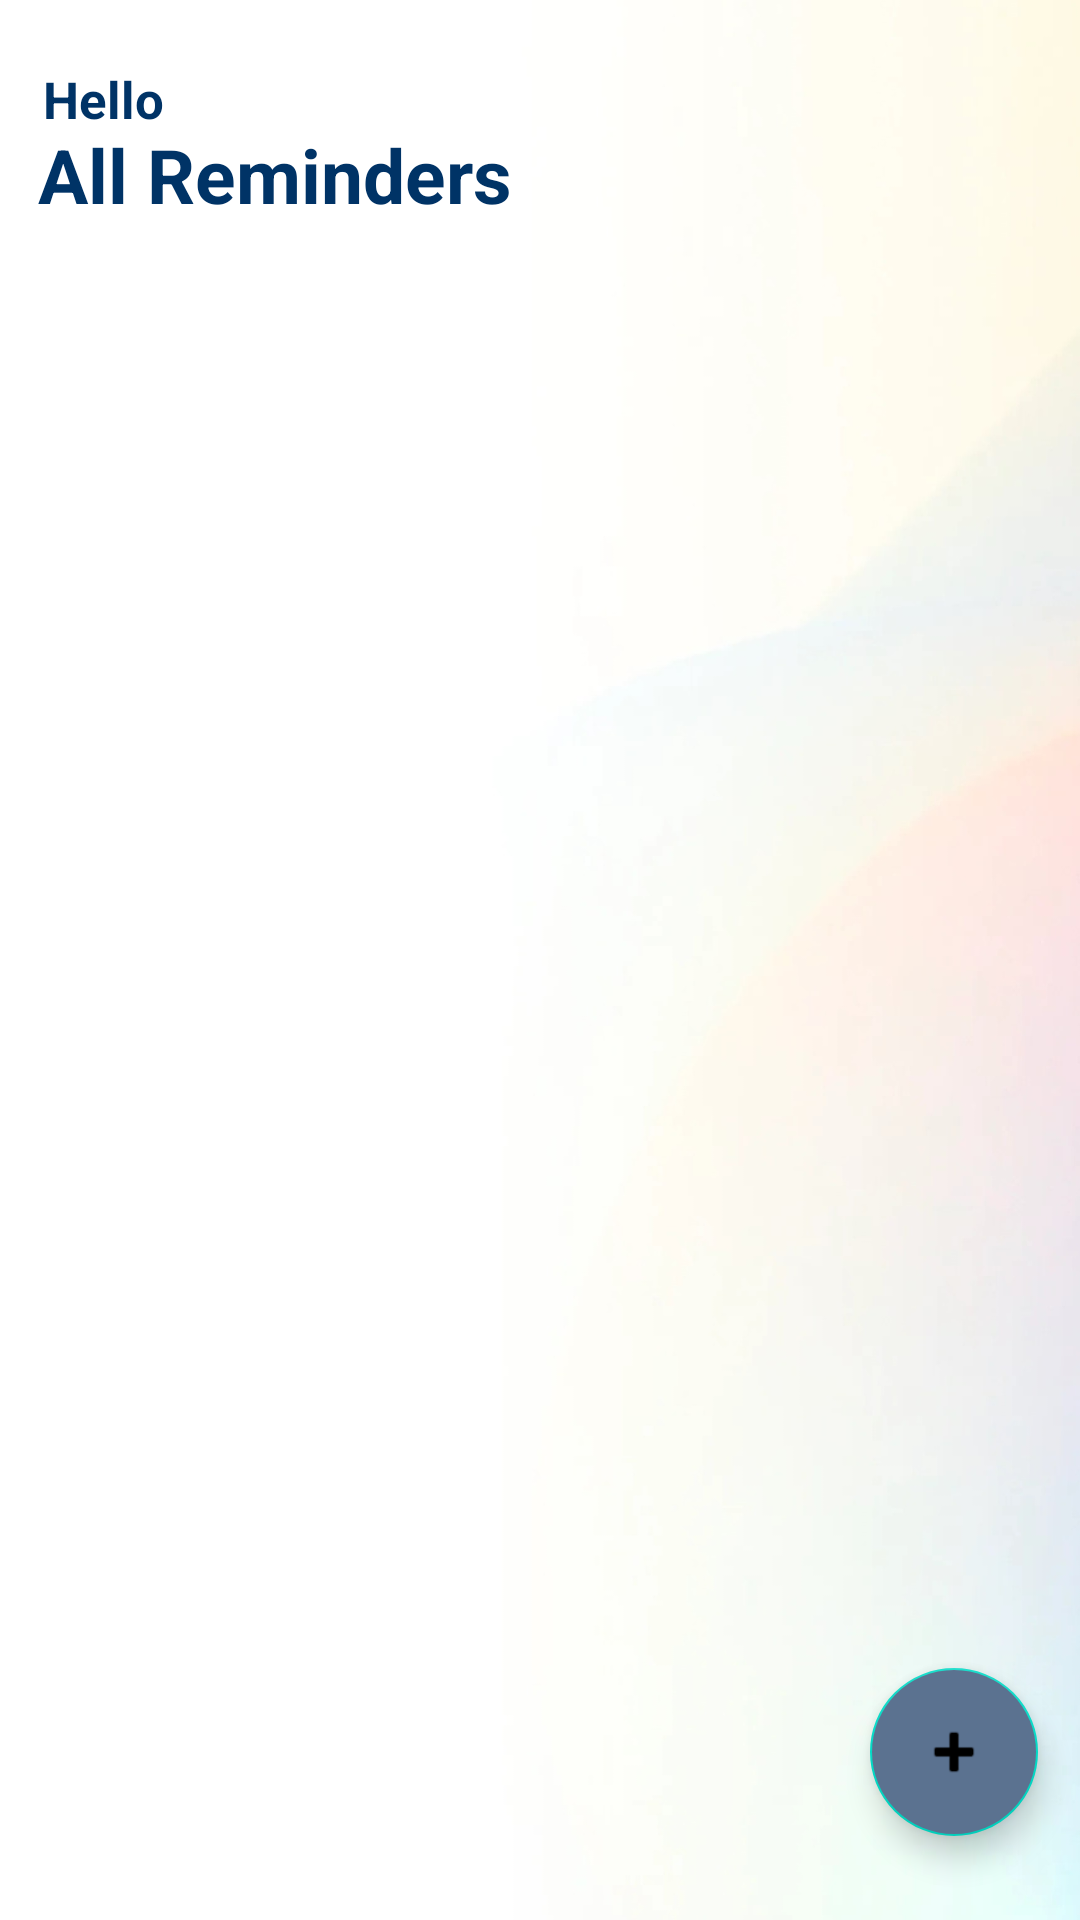

Screen size 1080px x 1920px. Icon name, then its box in pixels as (x1, y1, x2, y2):
add: (870, 1668, 1038, 1836)
